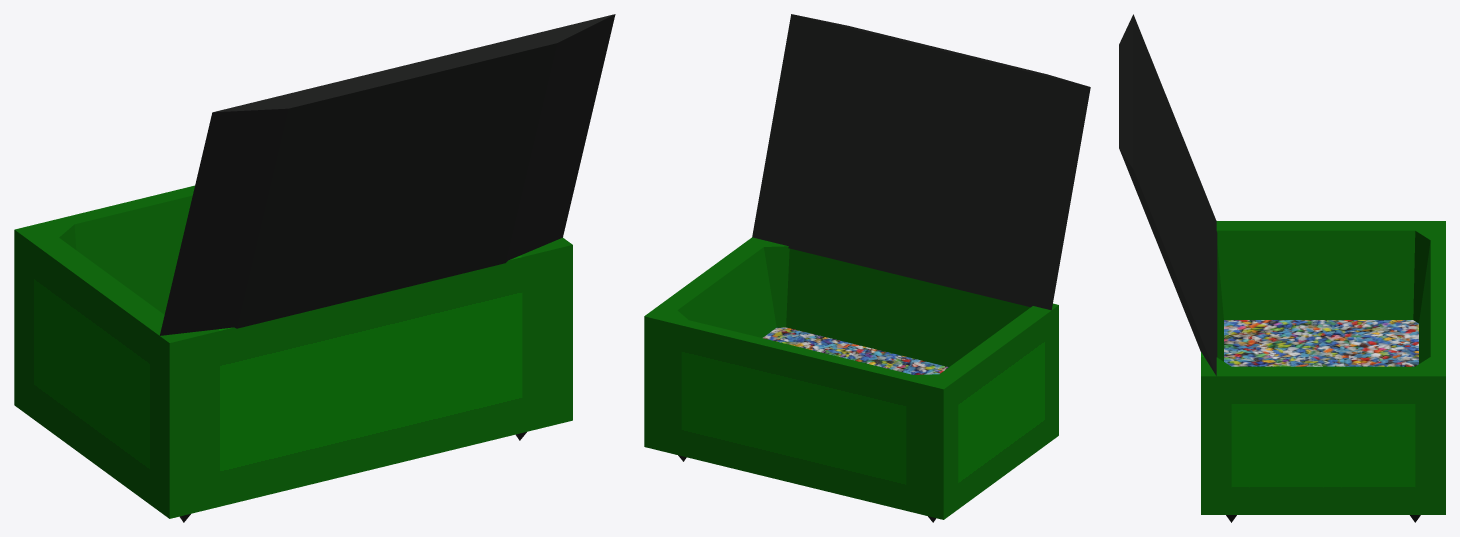
The model's file is tacho.fbx.
The picture shows the model from 3 angles, left to right: view 1: azimuth 30°, elevation 25°; view 2: azimuth 150°, elevation 25°; view 3: azimuth 270°, elevation 25°; orthographic projection. The views are drawn at different scales.
Visible parts, largest first — view 1: group, t; view 2: group, t; view 3: group, t.
Part boxes in pixels (x1,y1,x2,y2): group: (14,185,572,518); t: (159,14,615,335); group: (644,237,1058,519); t: (752,14,1090,310); group: (1201,221,1445,514); t: (1119,14,1217,375).
Size of the model in its own units: 75 by 82.52 by 66.69.
2 materials, 2 textured.
